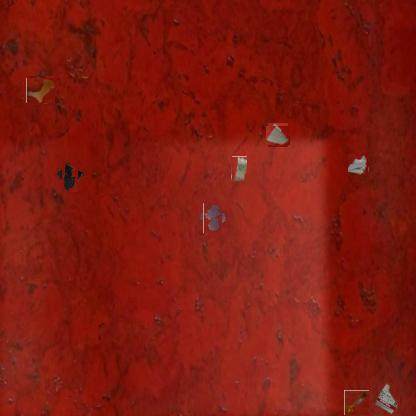dirty: (374, 383, 400, 415), (344, 390, 369, 415), (58, 164, 82, 188), (267, 124, 289, 146), (348, 154, 368, 176), (231, 156, 247, 181)
liquid: (27, 77, 55, 104), (201, 206, 225, 231)
